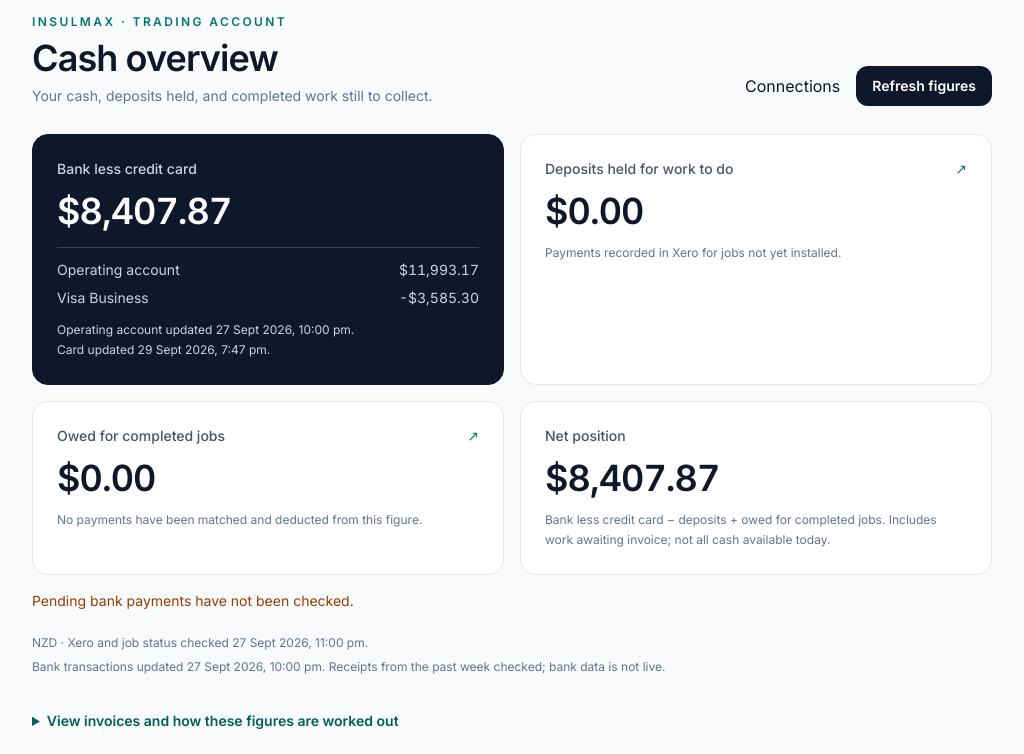
shows signed card component and combined cash without changing filtered detail: Visa Business -$3,585.30
Expected: the text "Deposits held for work to do" is shown, [545,160,734,177]
Expected: the text "Visa Business" is shown, [57,288,149,308]
Click the heading "View invoices and how these figures are worked out" at (223, 720), box [47,712,399,729]
(page scrolled)
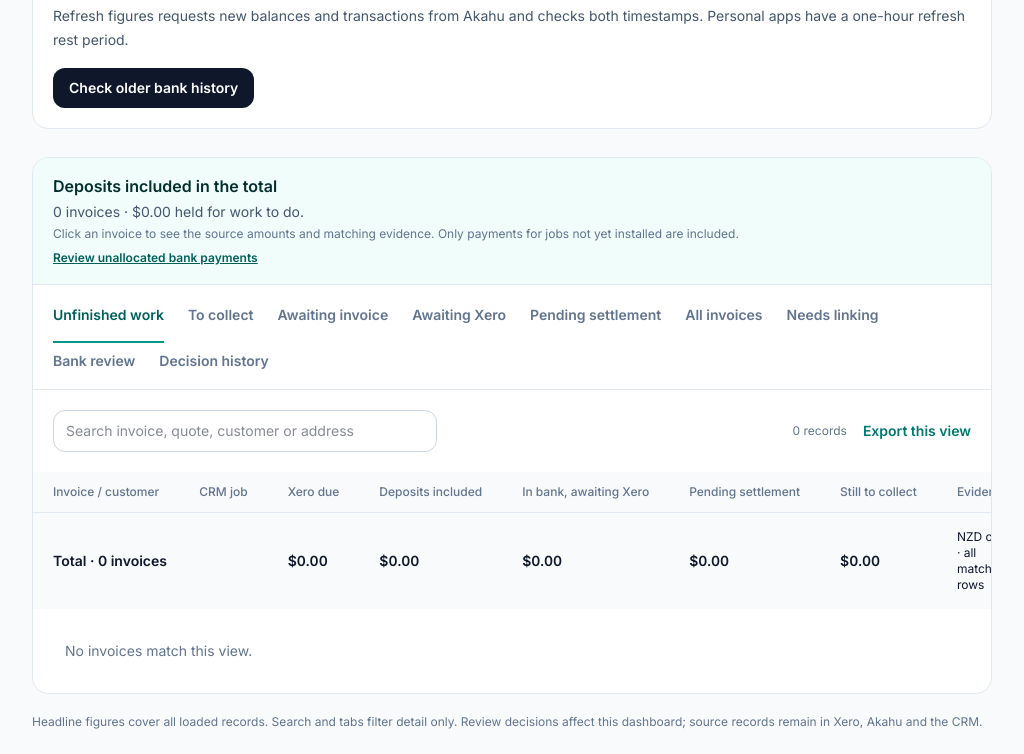
Click the tab "Bank review" at (94, 370), box [53,351,135,389]
(page scrolled)
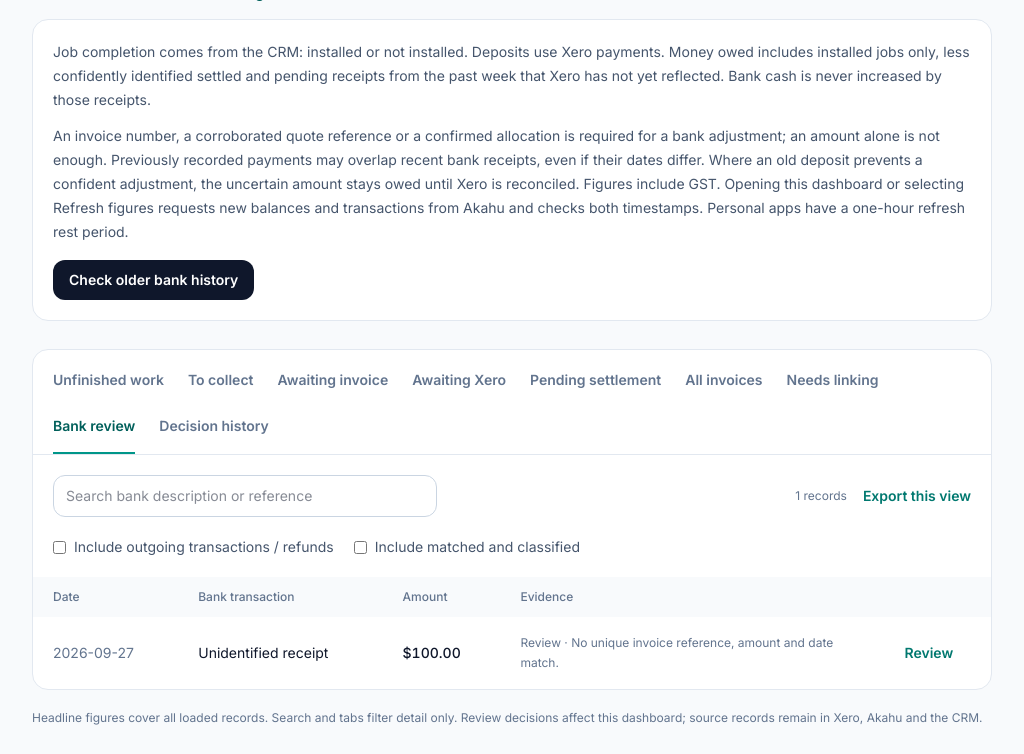
Result: the text "Unidentified receipt" is shown at [178,617,382,689]
Type "no match" into the field named "Search financial records" at (245, 496), box [53,475,437,517]
(page scrolled)
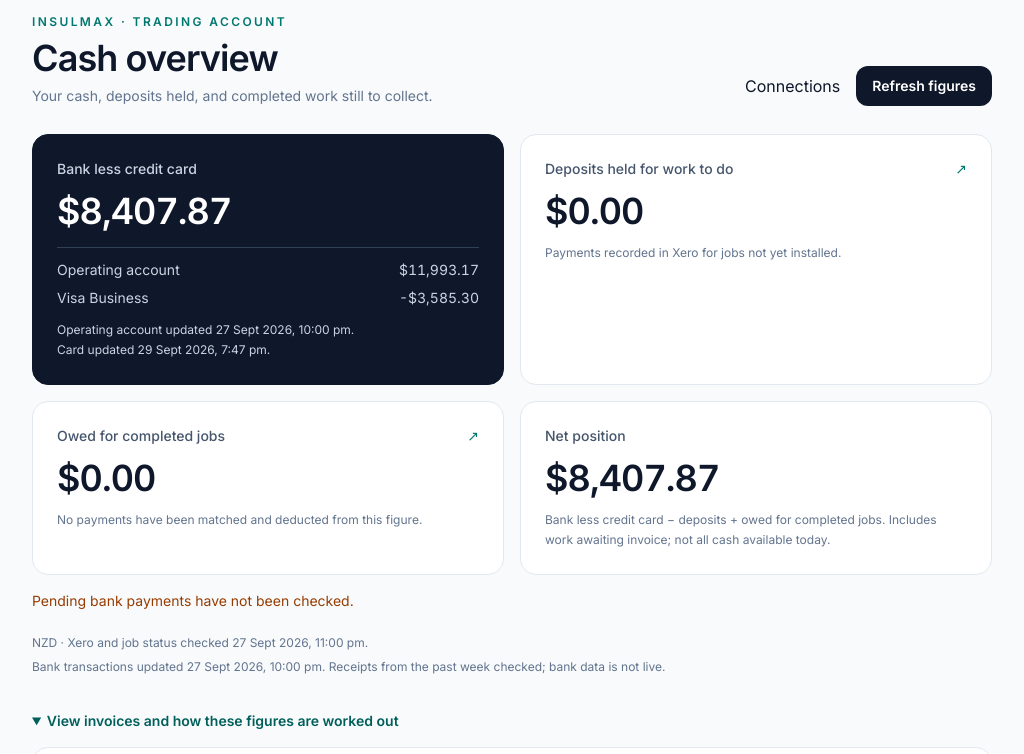
Expected: the text "$11,993.17" is shown, [399,260,479,280]
Result: the text "Unidentified receipt" is gone
